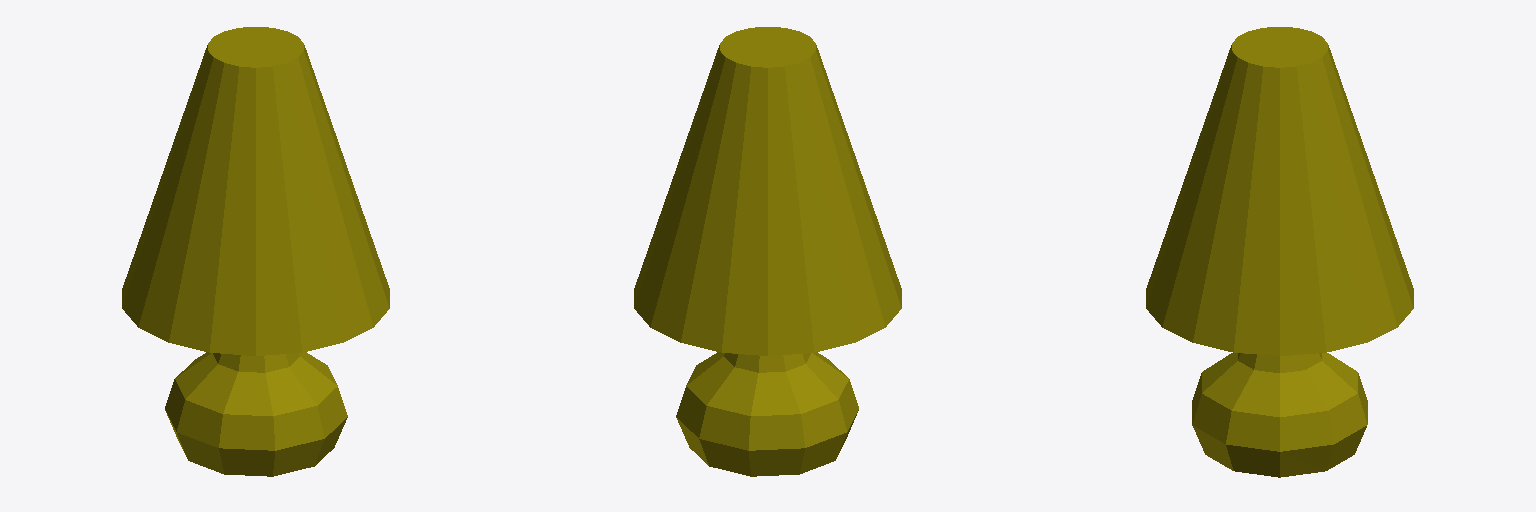
Rendered from TableLamp.obj.
3 views of the same model, side by side, from view 1: azimuth 30°, elevation 25°; view 2: azimuth 150°, elevation 25°; view 3: azimuth 270°, elevation 25° (orthographic).
Visible parts, largest first — view 1: TableLamp; view 2: TableLamp; view 3: TableLamp.
Boxes of the visible parts, x1,y1,x2,y2 form: TableLamp: [122, 27, 389, 476]; TableLamp: [634, 27, 901, 476]; TableLamp: [1146, 27, 1413, 477].
Bounding box in the file's own units: 58.89 × 99.88 × 57.99.